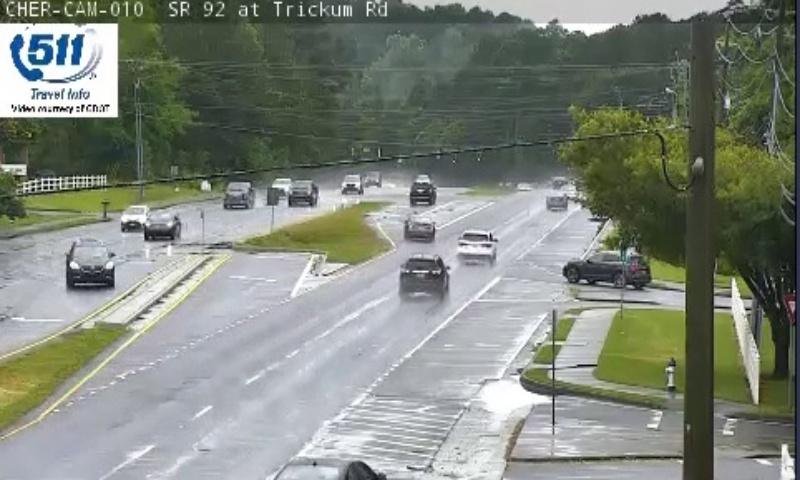car: (401, 252, 448, 294), (456, 230, 494, 258), (403, 214, 434, 238)
